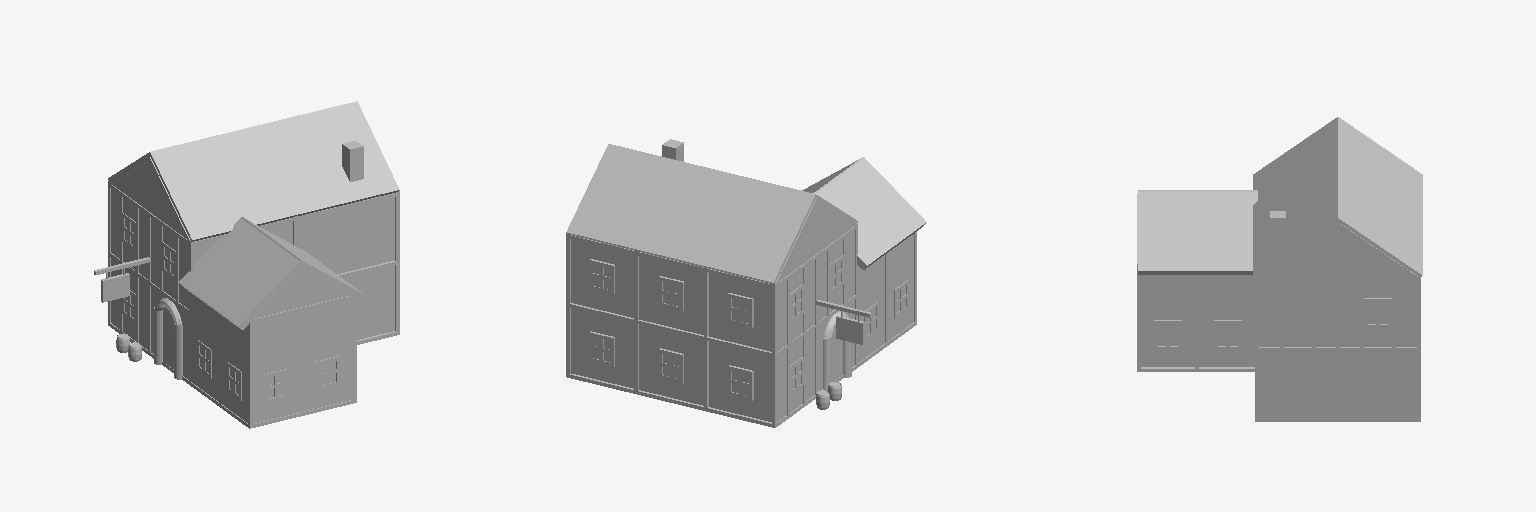
File: timberframedinn_black_white.obj
The picture shows the model from 3 angles: view 1: azimuth 30°, elevation 25°; view 2: azimuth 150°, elevation 25°; view 3: azimuth 270°, elevation 25°; orthographic projection.
Visible parts, largest first — view 1: Cube.007_Cube.011, Cube.005, Cube.054_Cube.057, Cube.067_Cube.072, Cylinder.001, Cube, Cube.006_Cube.010, Cube.066_Cube.071, Cube.065_Cube.070, Cube.012_Cube.017, Cube.073_Cube.078, Cube.018_Cube.016 (+1 smaller); view 2: Cube.005, Cube.007_Cube.011, Cube.067_Cube.072, Cube.054_Cube.057, Cube.023_Cube.026, Cube.022_Cube.025, Cylinder.001, Cube.021_Cube.024, Cube.020_Cube.023, Cube.015_Cube.020, Cube.008, Cube.019_Cube.022 (+7 smaller); view 3: Cube.005, Cube.007_Cube.011, Cube, Cube.054_Cube.057, Cube.003, Cube.033, Cube.009, Cube.004, Cube.031, Cube.032, Cube.027, Cube.012_Cube.017 (+8 smaller).
Boxes of the visible parts, x1,y1,x2,y2 form: Cube.007_Cube.011: [108, 101, 399, 241]; Cube.005: [111, 161, 394, 379]; Cube.054_Cube.057: [191, 270, 352, 423]; Cube.067_Cube.072: [179, 217, 305, 329]; Cylinder.001: [154, 298, 182, 379]; Cube: [241, 217, 364, 301]; Cube.006_Cube.010: [342, 141, 363, 181]; Cube.066_Cube.071: [264, 369, 287, 403]; Cube.065_Cube.070: [316, 356, 339, 390]; Cube.012_Cube.017: [395, 190, 399, 334]; Cube.073_Cube.078: [101, 273, 129, 302]; Cube.018_Cube.016: [191, 193, 395, 245]; Cube.005: [571, 204, 854, 421]; Cube.007_Cube.011: [566, 144, 857, 283]; Cube.067_Cube.072: [813, 157, 926, 269]; Cube.054_Cube.057: [858, 234, 913, 362]; Cube.023_Cube.026: [567, 374, 771, 426]; Cube.022_Cube.025: [567, 303, 771, 356]; Cylinder.001: [823, 311, 851, 390]; Cube.021_Cube.024: [567, 235, 771, 287]; Cube.020_Cube.023: [728, 365, 753, 400]; Cube.015_Cube.020: [728, 293, 753, 327]; Cube.008: [590, 259, 614, 294]; Cube.019_Cube.022: [659, 348, 683, 383]; Cube.005: [1259, 227, 1416, 417]; Cube.007_Cube.011: [1253, 117, 1422, 276]; Cube: [1138, 192, 1257, 274]; Cube.054_Cube.057: [1141, 275, 1254, 366]; Cube.003: [1364, 377, 1391, 417]; Cube.033: [1364, 298, 1391, 327]; Cube.009: [1154, 320, 1181, 349]; Cube.004: [1214, 320, 1241, 349]; Cube.031: [1258, 418, 1417, 421]; Cube.032: [1258, 279, 1416, 282]; Cube.027: [1417, 277, 1420, 421]; Cube.012_Cube.017: [1255, 277, 1258, 421].
Size of the model in its own units: 15.3 by 11.25 by 14.29.